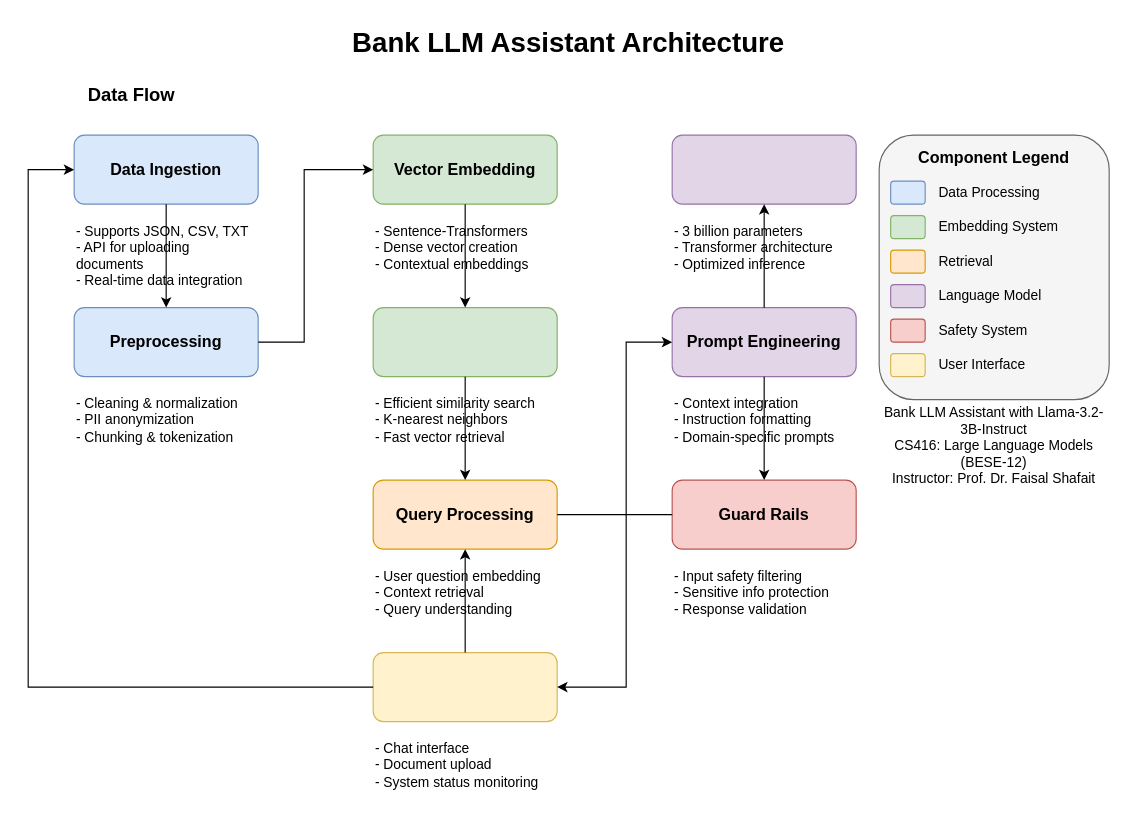
This 1129x821 diagram has some shape labels left out. The box of each missing label's shape, as (x1, y1, x2, y2) in pixels:
FAISS Index: (372, 306, 557, 377)
Llama-3.2-3B-Instruct: (671, 134, 856, 204)
Streamlit UI: (372, 651, 557, 722)
